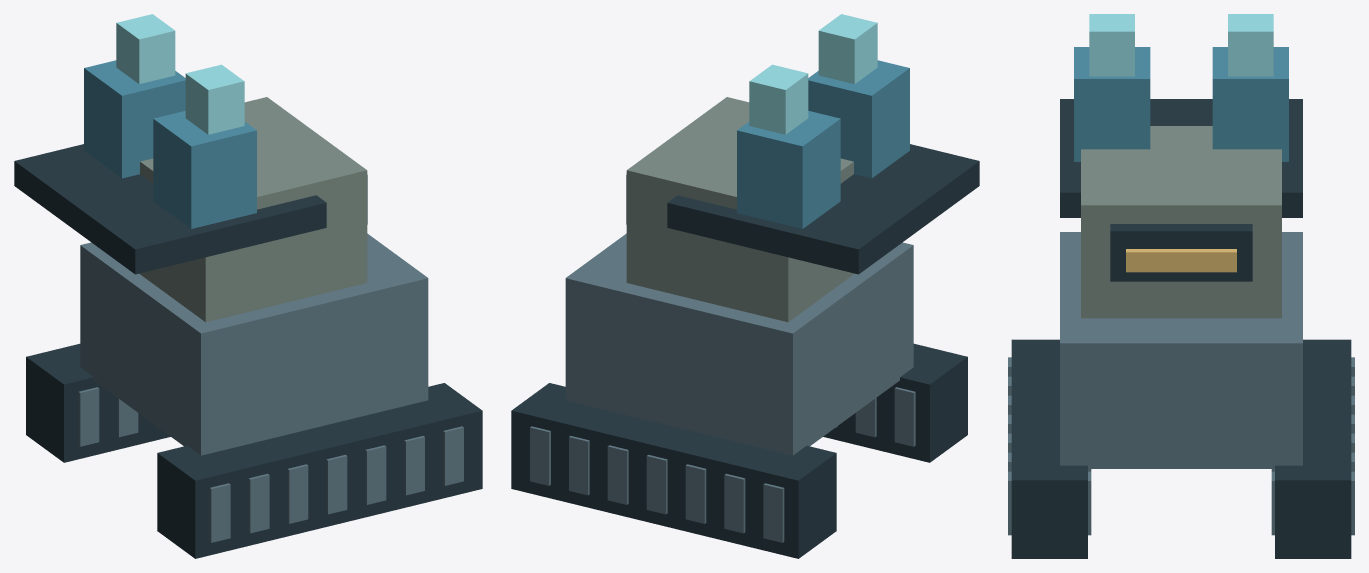
File: cargo-crawler.glb
3 views of the same model, side by side, from view 1: azimuth 30°, elevation 25°; view 2: azimuth 150°, elevation 25°; view 3: azimuth 270°, elevation 25° (orthographic).
Visible parts, largest first — view 1: Chassis, Tracks, UpperHull, CrystalBase, CargoRack, TreadRibs, CrystalTip; view 2: Chassis, Tracks, UpperHull, CrystalBase, CargoRack, TreadRibs, CrystalTip; view 3: Chassis, UpperHull, Tracks, CrystalBase, CargoRack, CrystalTip, OpticHousing, OpticLens, TreadRibs.
Boxes of the visible parts, box(x1,y1,x2,y2) form: Chassis: box(80, 233, 428, 455); Tracks: box(26, 343, 482, 558); UpperHull: box(139, 97, 367, 322); CrystalBase: box(84, 60, 256, 228); CargoRack: box(14, 144, 326, 274); TreadRibs: box(78, 387, 463, 542); CrystalTip: box(116, 14, 244, 134); Chassis: box(565, 233, 913, 455); Tracks: box(511, 343, 967, 558); UpperHull: box(626, 97, 854, 322); CrystalBase: box(737, 60, 909, 228); CargoRack: box(667, 144, 979, 274); TreadRibs: box(530, 387, 915, 542); CrystalTip: box(749, 14, 877, 134); Chassis: box(1060, 232, 1302, 468); UpperHull: box(1081, 126, 1281, 318); Tracks: box(1011, 339, 1351, 558); CrystalBase: box(1074, 47, 1288, 161); CargoRack: box(1060, 99, 1302, 217); CrystalTip: box(1089, 14, 1273, 76); OpticHousing: box(1110, 224, 1252, 281); OpticLens: box(1126, 249, 1236, 272); TreadRibs: box(1008, 357, 1354, 535).
Size of the model in its own units: 5.4 by 6.83 by 5.
